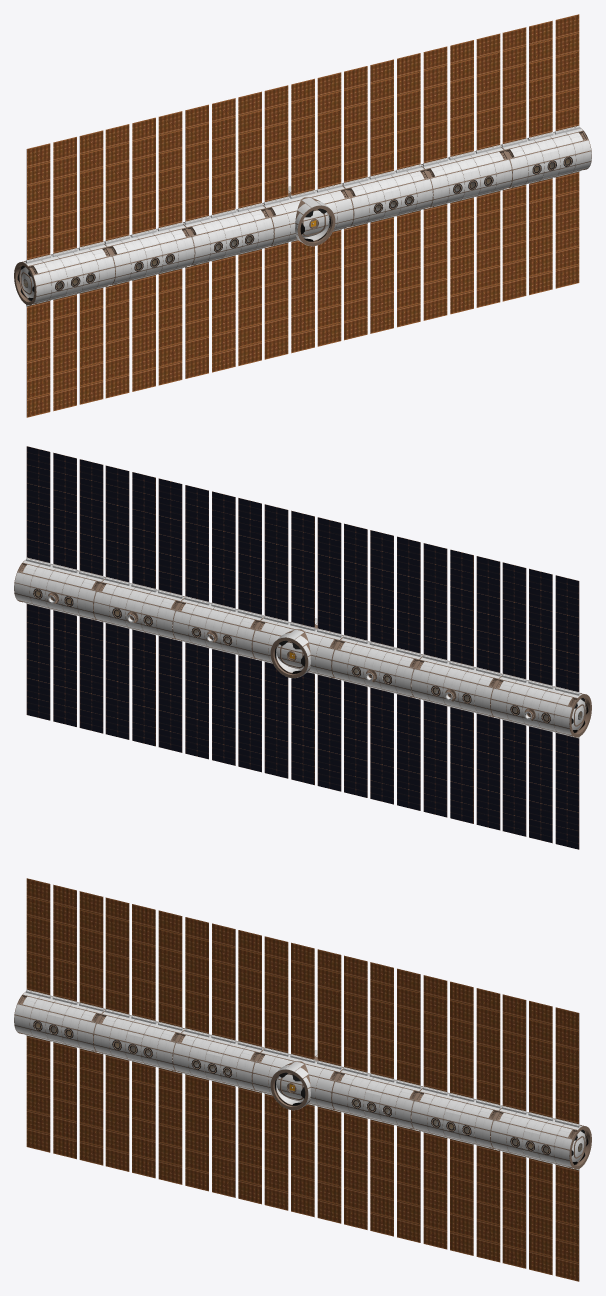
Rendered from ag-station-transformed.glb.
3 renders of one model, top to bottom at view 1: azimuth 30°, elevation 25°; view 2: azimuth 150°, elevation 25°; view 3: azimuth 330°, elevation 25°, orthographic.
Parts seen in each view (by area): view 1: Solar_Sails_Orange, Main_Panels, Aluminium_Details, Black_Metal_Details, Solar_Sails_Blue; view 2: Solar_Sails_Blue, Main_Panels, Aluminium_Details, Black_Metal_Details, Solar_Sails_Orange; view 3: Solar_Sails_Orange, Main_Panels, Aluminium_Details, Black_Metal_Details, Solar_Sails_Blue.
Boxes of the visible parts, x1,y1,x2,y2 form: Solar_Sails_Orange: (27, 14, 579, 417); Main_Panels: (20, 125, 591, 306); Aluminium_Details: (14, 126, 591, 305); Black_Metal_Details: (17, 156, 572, 300); Solar_Sails_Blue: (26, 26, 529, 417); Solar_Sails_Blue: (26, 446, 579, 849); Main_Panels: (14, 557, 585, 738); Aluminium_Details: (14, 558, 591, 737); Black_Metal_Details: (33, 588, 588, 732); Solar_Sails_Orange: (155, 477, 473, 823); Solar_Sails_Orange: (26, 878, 578, 1281); Main_Panels: (14, 989, 585, 1170); Aluminium_Details: (14, 990, 591, 1169); Black_Metal_Details: (33, 1020, 588, 1164); Solar_Sails_Blue: (76, 890, 579, 1281).
Bounding box in the file's own units: 105 × 48.58 × 9.41.
8 materials, 4 textured.
